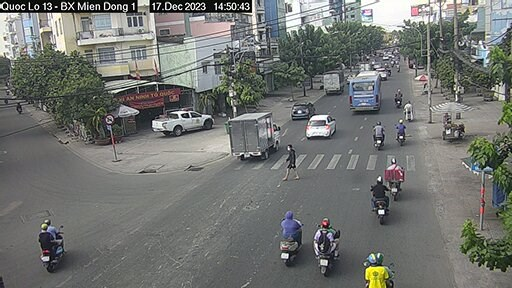bus: (347, 68, 381, 119)
car: (156, 112, 215, 145), (306, 110, 349, 150), (289, 99, 317, 130)
motorbike: (310, 219, 342, 280), (35, 218, 69, 273), (279, 210, 308, 268), (356, 245, 398, 284), (363, 173, 390, 218), (378, 154, 405, 193), (370, 117, 392, 146), (393, 118, 410, 152)
truck: (225, 101, 278, 163), (322, 63, 343, 99)
